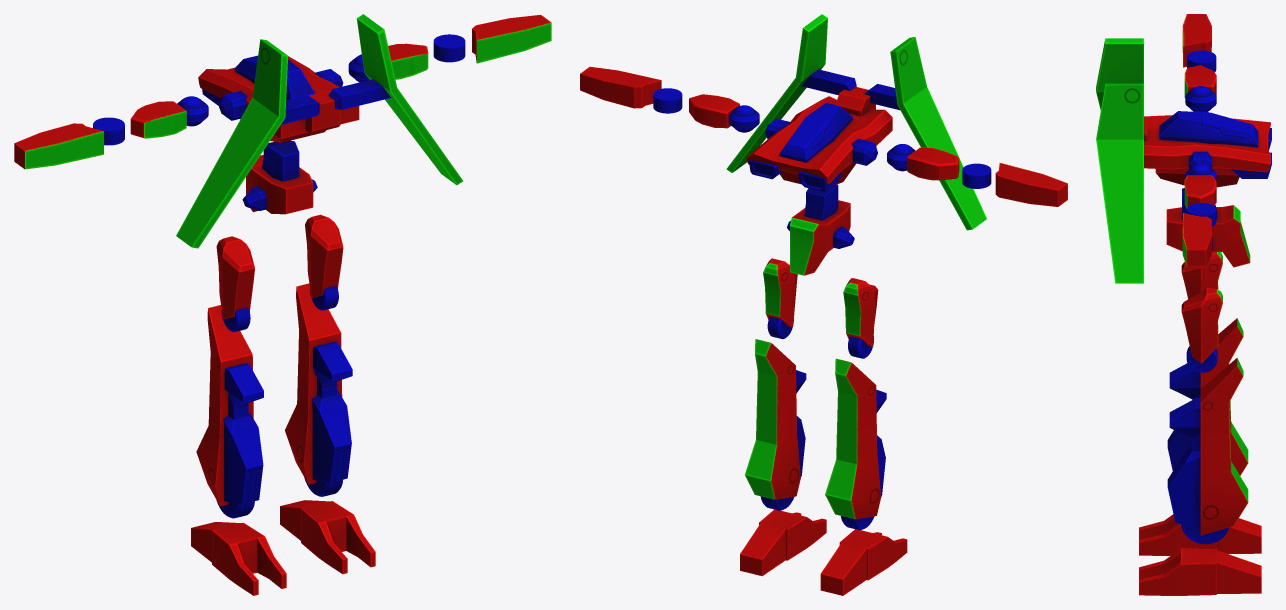
Rendered from stormcellplayer.gltf.
The picture shows the model from 3 angles, left to right: view 1: azimuth 30°, elevation 25°; view 2: azimuth 150°, elevation 25°; view 3: azimuth 270°, elevation 25°; orthographic projection. The views are drawn at different scales.
Parts seen in each view (by area): view 1: Cube.035-7, Cube.035-0, Cube.035-6, Cube.035-1, Cube.035-2, Cube.035-8, Cube.035-5, Cube.035-3; view 2: Cube.035-7, Cube.035-0, Cube.035-6, Cube.035-1, Cube.035-2, Cube.035-8, Cube.035-5, Cube.035-3; view 3: Cube.035-7, Cube.035-0, Cube.035-1, Cube.035-6, Cube.035-2, Cube.035-4, Cube.035-8, Cube.035-3.
Boxes of the visible parts, left/top/right/bottom form: Cube.035-7: left=93, top=14, right=465, bottom=506; Cube.035-0: left=177, top=54, right=375, bottom=595; Cube.035-6: left=14, top=15, right=551, bottom=169; Cube.035-1: left=216, top=214, right=343, bottom=319; Cube.035-2: left=130, top=43, right=428, bottom=138; Cube.035-8: left=216, top=179, right=342, bottom=518; Cube.035-5: left=262, top=140, right=299, bottom=181; Cube.035-3: left=219, top=69, right=343, bottom=120; Cube.035-7: left=653, top=14, right=991, bottom=519; Cube.035-0: left=729, top=105, right=915, bottom=595; Cube.035-6: left=580, top=66, right=1067, bottom=206; Cube.035-1: left=763, top=258, right=878, bottom=346; Cube.035-2: left=689, top=94, right=959, bottom=180; Cube.035-8: left=760, top=220, right=874, bottom=530; Cube.035-5: left=804, top=184, right=838, bottom=220; Cube.035-3: left=765, top=119, right=877, bottom=165; Cube.035-7: left=1096, top=38, right=1271, bottom=535; Cube.035-0: left=1139, top=86, right=1261, bottom=595; Cube.035-1: left=1181, top=252, right=1222, bottom=363; Cube.035-6: left=1182, top=14, right=1211, bottom=266; Cube.035-2: left=1184, top=65, right=1216, bottom=208; Cube.035-4: left=1155, top=168, right=1239, bottom=187; Cube.035-8: left=1181, top=239, right=1228, bottom=544; Cube.035-3: left=1189, top=111, right=1211, bottom=169.
Bounding box in the file's own units: 12.83 × 12.86 × 4.04.
1 material, 1 textured.
